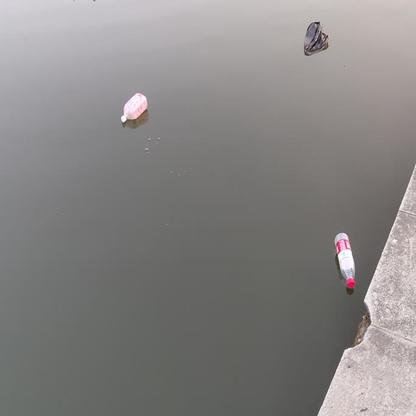plastic bag: (304, 20, 329, 57)
plastic bottle: (334, 232, 356, 288), (121, 92, 148, 124)
